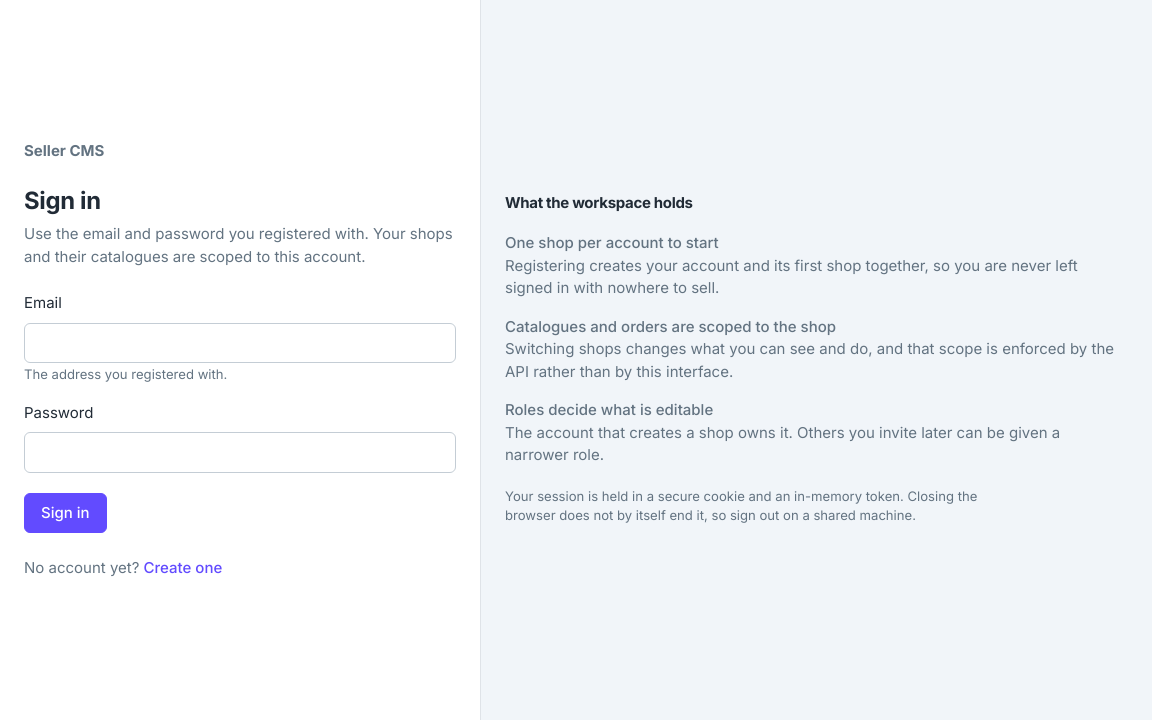
Scenario: login form › shows the backend's message when the credentials are wrong
Type "seller@example.com" into the field labelled "Email".
click(240, 343); type("seller@example.com")  # box [24,323,456,363]
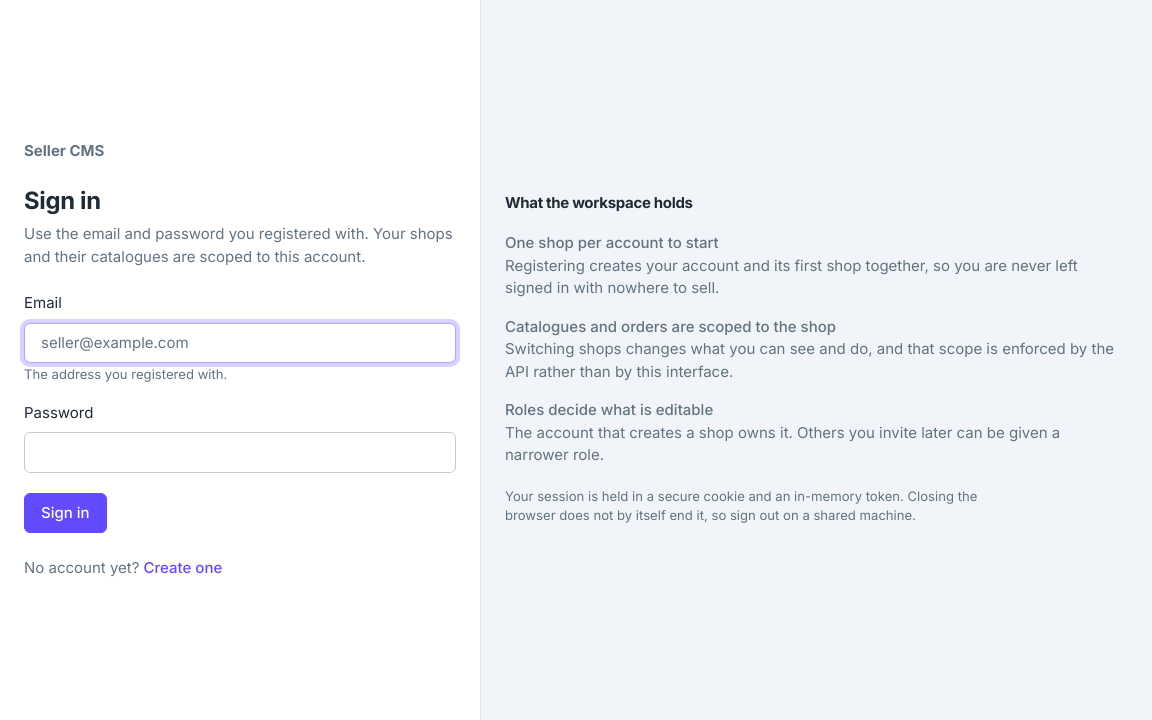
Type "wrong-but-long-enough" into the password field labelled "Password".
click(240, 453); type("wrong-but-long-enough")  # box [24,432,456,473]
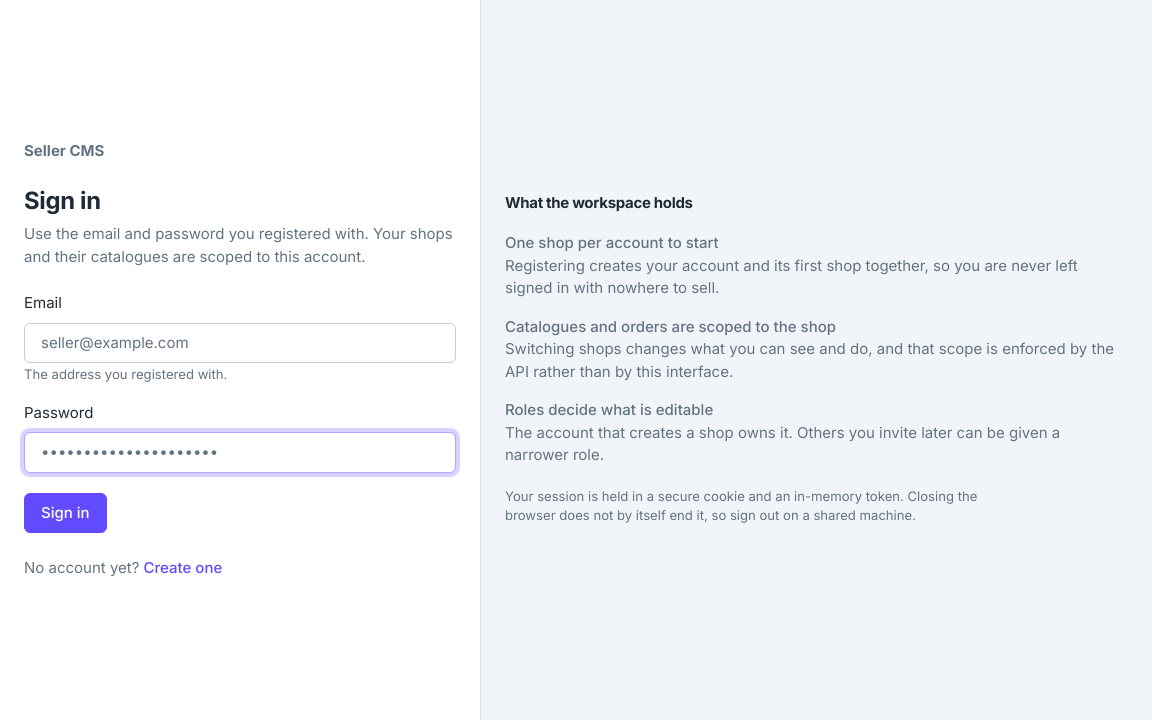
Click the button "Sign in".
click(65, 513)  # box [24,493,107,533]
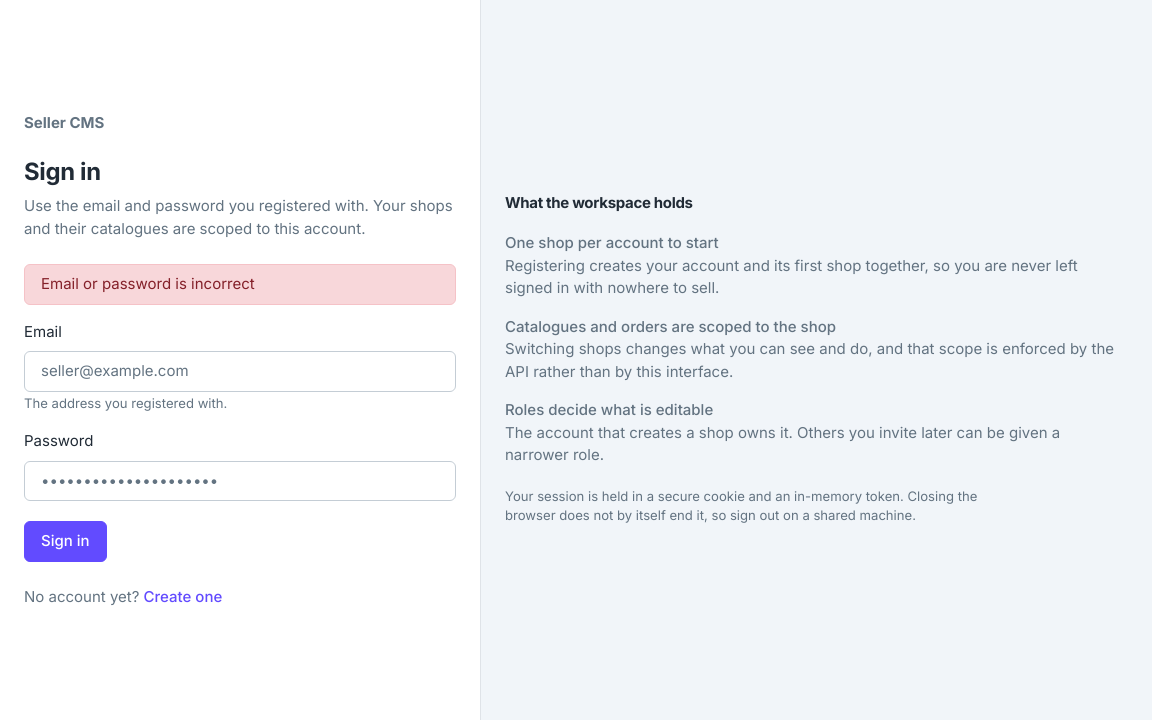
Check: the text "Email or password is incorrect" is shown, box [24,264,456,305]
